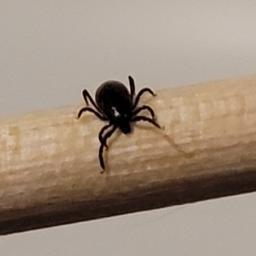Ixodes scapularis: (75, 78, 160, 171)
